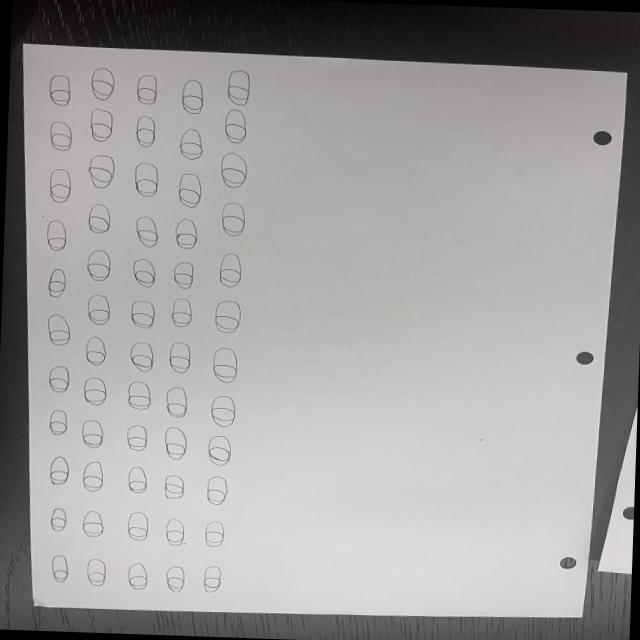Toggle: (82, 62, 123, 102), (216, 150, 256, 191), (85, 148, 124, 190), (43, 163, 76, 212), (154, 556, 192, 596), (217, 105, 253, 146), (213, 199, 250, 238), (41, 116, 78, 154), (170, 215, 207, 252), (157, 424, 195, 459), (176, 74, 206, 118), (124, 338, 158, 376), (74, 410, 106, 450), (174, 170, 206, 210), (212, 297, 244, 336), (38, 214, 70, 253), (82, 244, 111, 286), (204, 394, 239, 428), (82, 293, 118, 326), (176, 125, 208, 162), (84, 200, 115, 238), (210, 342, 238, 383), (45, 72, 78, 106), (77, 373, 112, 405), (214, 250, 242, 290), (130, 161, 162, 196), (125, 294, 156, 330), (84, 107, 115, 143), (198, 559, 228, 596), (204, 431, 234, 468), (133, 210, 163, 247), (160, 381, 187, 422), (224, 66, 252, 105), (127, 256, 159, 290), (80, 333, 112, 366), (160, 510, 187, 549), (82, 554, 110, 590), (124, 463, 153, 497), (166, 340, 194, 375), (43, 264, 68, 303), (131, 69, 158, 105), (165, 296, 195, 328), (166, 258, 196, 290), (202, 472, 229, 507), (43, 312, 70, 347), (78, 460, 107, 492), (46, 450, 70, 488), (124, 422, 150, 457), (161, 468, 186, 504), (133, 110, 156, 149), (126, 559, 150, 596), (44, 361, 70, 395), (122, 511, 150, 542), (199, 518, 227, 549), (126, 376, 150, 412), (44, 501, 70, 533), (82, 508, 105, 538), (46, 406, 68, 436), (52, 550, 68, 584)
